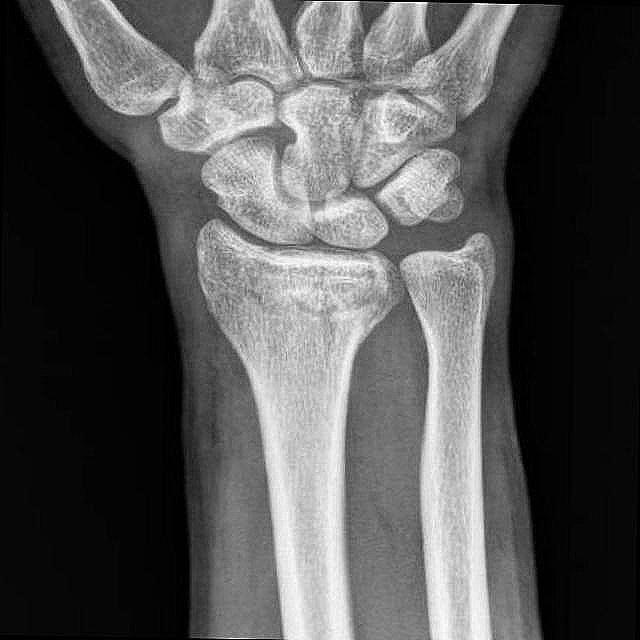bone: (186, 233, 399, 364)
